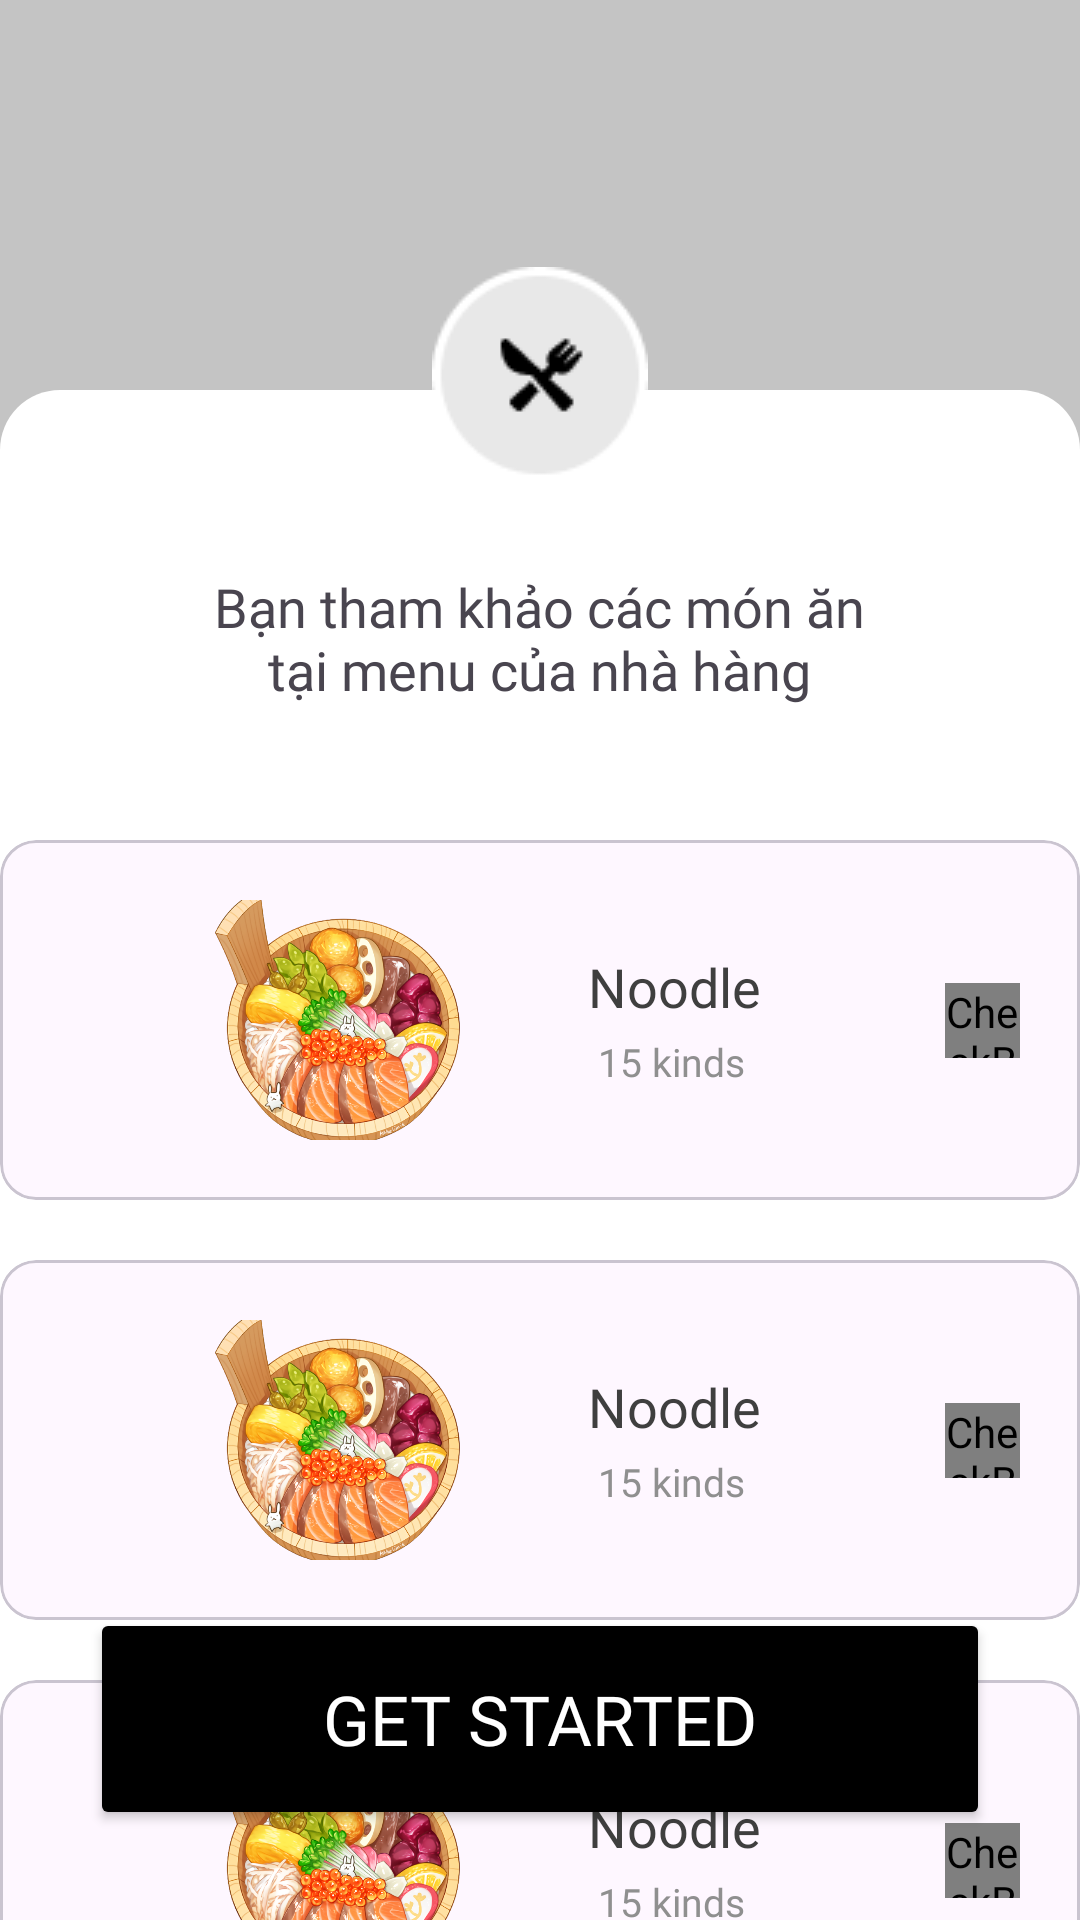

Point at icon controls on the screen. Image size 1080*1920, points as [x,y].
hungy: [540,375]
